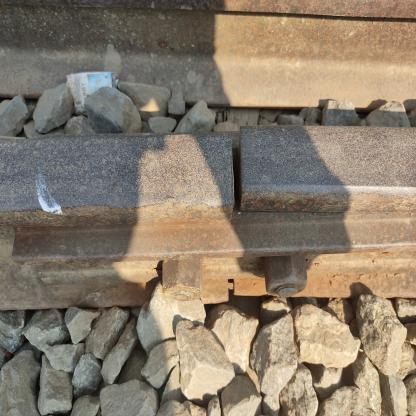Defective: (117, 91, 340, 246)
